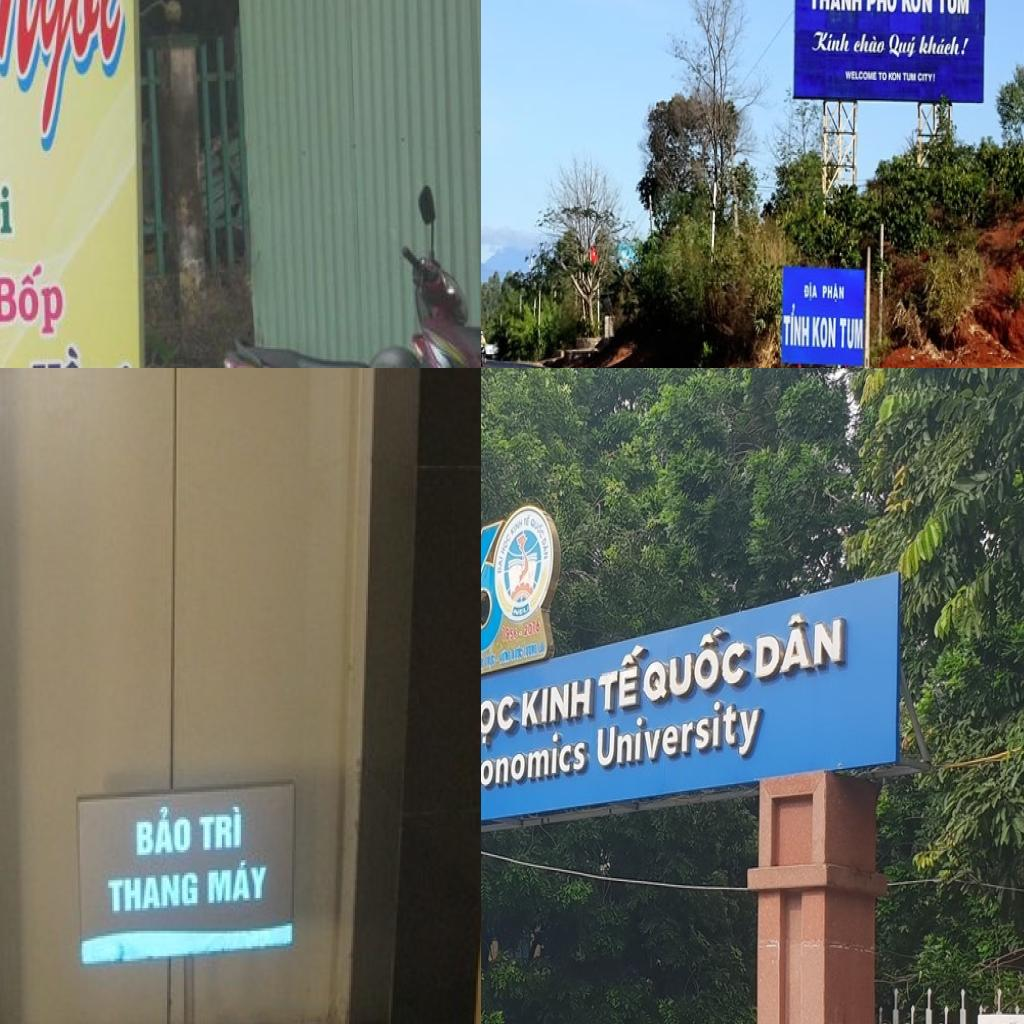text: (0, 0, 140, 171), (643, 610, 754, 710), (481, 725, 592, 797), (752, 609, 848, 683), (0, 255, 73, 349), (518, 670, 597, 738), (103, 870, 201, 918), (598, 637, 647, 717), (21, 336, 136, 368), (133, 805, 195, 860), (205, 860, 273, 908), (196, 802, 246, 857), (481, 689, 519, 752), (782, 302, 811, 348), (918, 34, 972, 57), (811, 31, 852, 54), (852, 32, 889, 56), (886, 34, 919, 60), (812, 316, 837, 350), (808, 0, 863, 12), (823, 282, 846, 305), (529, 515, 549, 541), (866, 0, 900, 15), (936, 0, 970, 15), (501, 622, 520, 646), (844, 70, 878, 83), (522, 615, 541, 638), (902, 0, 933, 13), (498, 531, 513, 556), (540, 535, 552, 563), (803, 282, 819, 302), (509, 516, 523, 537), (512, 604, 531, 619), (494, 552, 504, 576), (917, 71, 936, 83), (902, 71, 918, 83), (888, 71, 902, 83), (878, 71, 888, 83), (523, 515, 531, 529)
